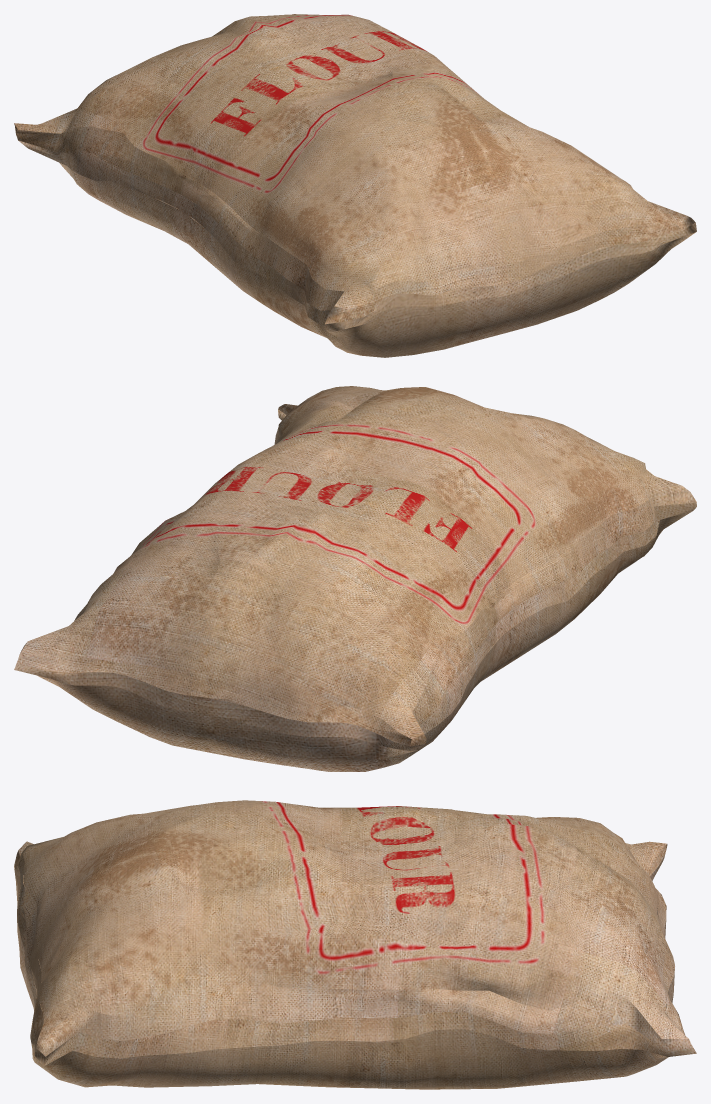
Rendered from flour_bag.glb.
3 views of the same model, one above another, from view 1: azimuth 30°, elevation 25°; view 2: azimuth 150°, elevation 25°; view 3: azimuth 270°, elevation 25° (orthographic). The views are drawn at different scales.
Parts seen in each view (by area): view 1: pCube1_blinn1_0; view 2: pCube1_blinn1_0; view 3: pCube1_blinn1_0.
Part boxes in pixels (x1,y1,x2,y2): pCube1_blinn1_0: (14,14,696,357); pCube1_blinn1_0: (14,386,696,771); pCube1_blinn1_0: (14,800,696,1089).
Size of the model in its own units: 0.6285 by 0.2679 by 0.8124.
Materials: 1 (1 with a texture image).
